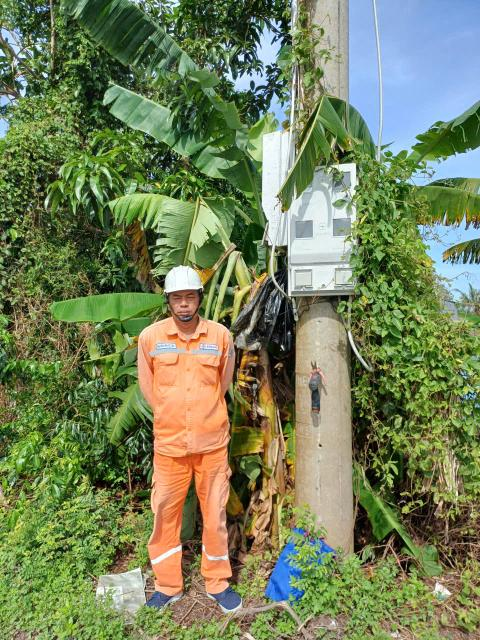helmet: (163, 259, 212, 296)
shoes: (208, 573, 251, 620), (138, 586, 185, 618)
